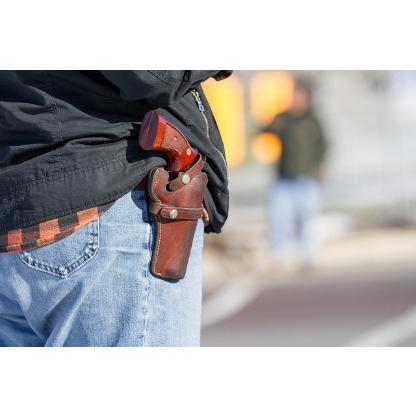gun: (138, 112, 210, 278)
